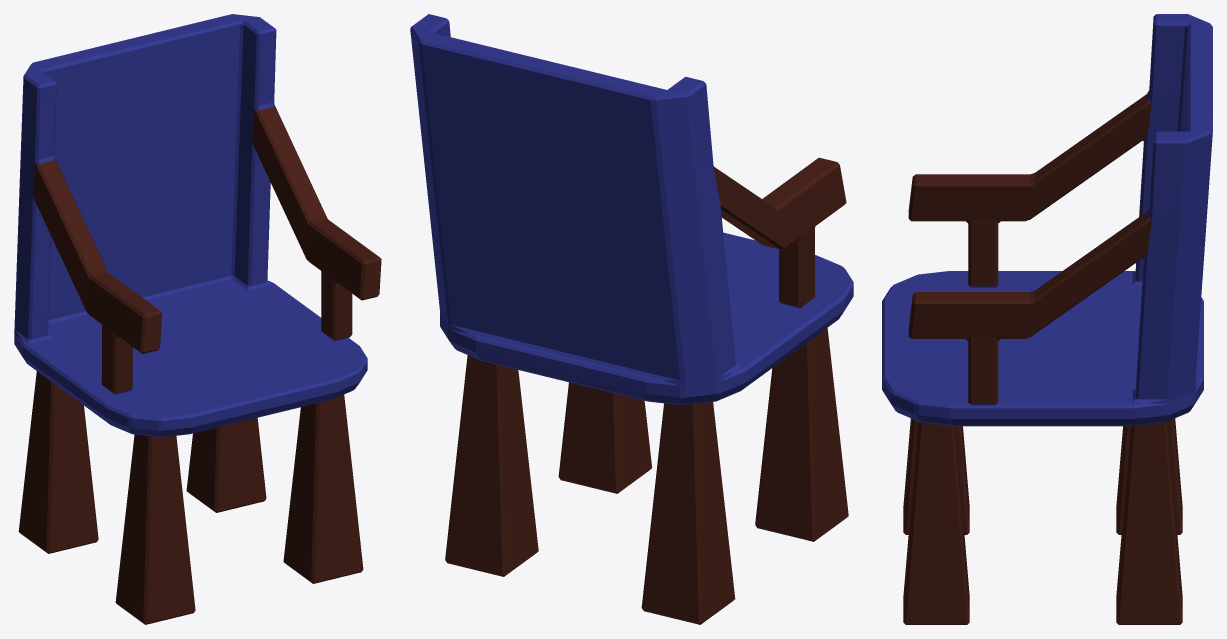
The model's file is chair4.obj.
3 renders of one model, left to right at view 1: azimuth 30°, elevation 25°; view 2: azimuth 150°, elevation 25°; view 3: azimuth 270°, elevation 25°, orthographic. The views are drawn at different scales.
Visible parts, largest first — view 1: Chair1.001; view 2: Chair1.001; view 3: Chair1.001.
Boxes of the visible parts, x1,y1,x2,y2 form: Chair1.001: [14, 14, 381, 624]; Chair1.001: [410, 14, 853, 624]; Chair1.001: [882, 14, 1212, 624].
Bounding box in the file's own units: 1.39 × 2.29 × 1.37.
